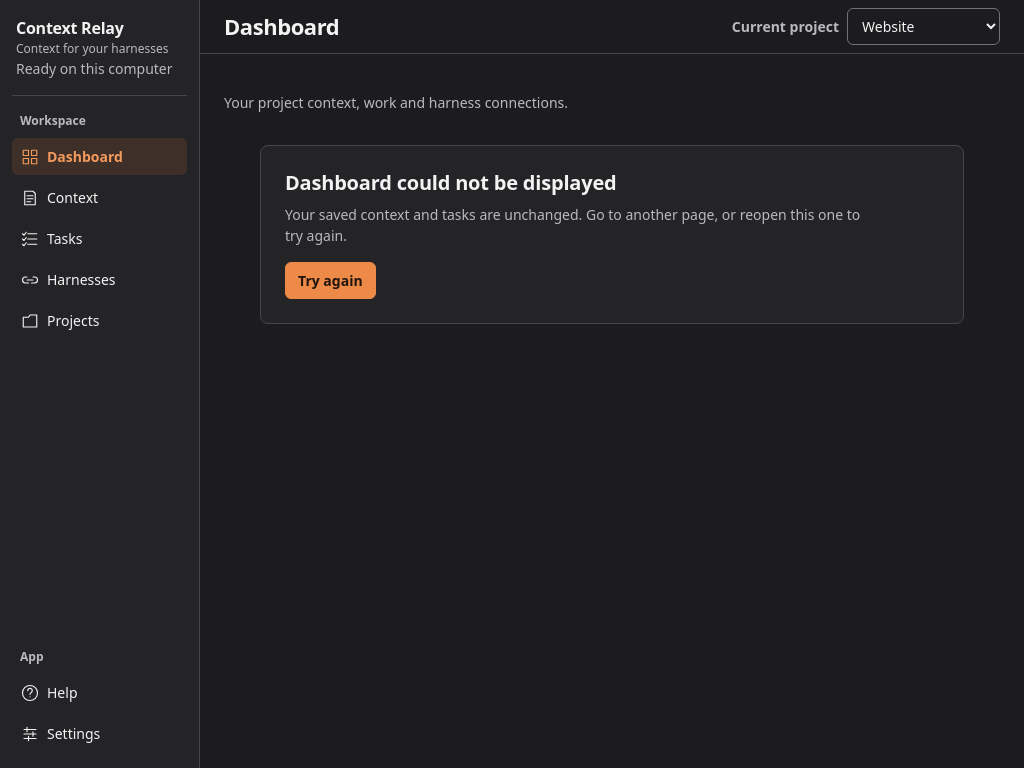
Test: retries the failed screen and displays data that can now render
The width and height of the screenshot is (1024, 768).
Expected: the heading "Dashboard could not be displayed" is shown, x1=285 y1=169 x2=616 y2=196
Click the button "Try again" at (330, 280), box x1=285 y1=262 x2=376 y2=299
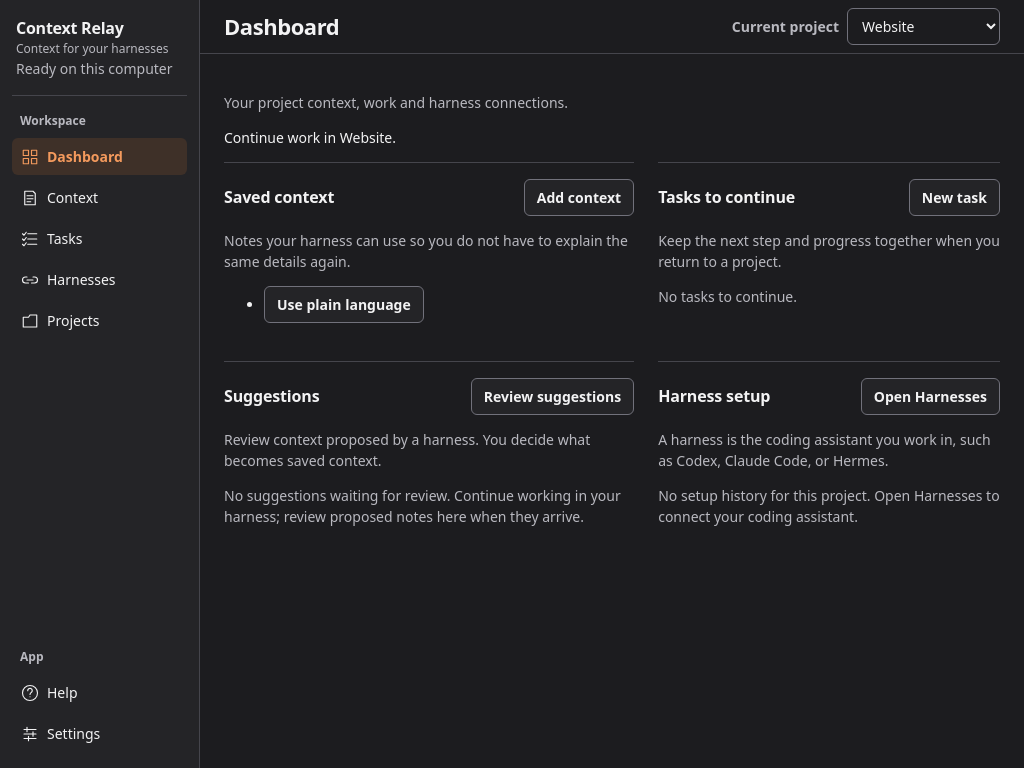
Now the button "Use plain language" is shown, box x1=264 y1=286 x2=424 y2=323
Now the heading "could not be displayed" is gone
